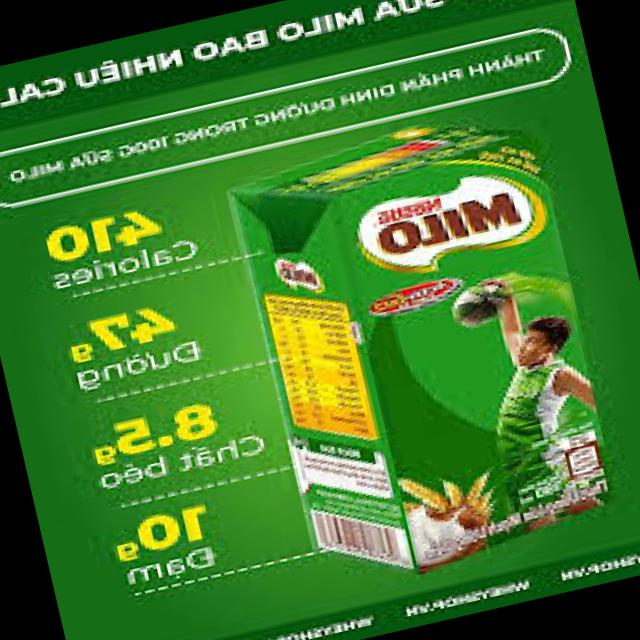sua milo: (213, 86, 640, 598)
